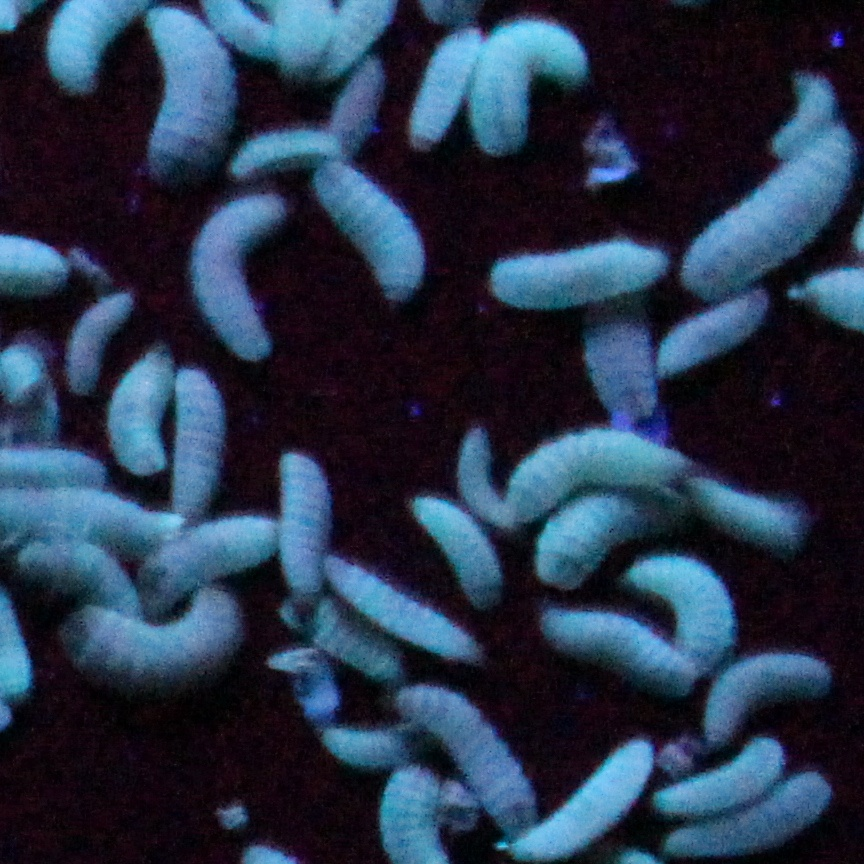larve: (292, 143, 429, 285), (397, 687, 533, 826), (494, 431, 672, 528), (477, 28, 621, 141), (187, 204, 292, 355), (144, 5, 233, 182), (72, 589, 246, 677), (331, 553, 468, 658), (153, 504, 280, 604), (675, 465, 824, 550), (514, 485, 641, 582), (492, 250, 670, 319), (538, 604, 709, 675), (655, 780, 833, 848), (651, 285, 772, 385), (414, 489, 509, 602), (702, 658, 829, 738), (412, 14, 485, 153), (163, 360, 226, 516), (658, 746, 785, 819), (111, 343, 170, 485), (277, 448, 333, 592), (648, 565, 733, 655), (312, 616, 416, 682), (66, 292, 138, 387), (590, 336, 660, 433), (214, 126, 365, 167), (458, 433, 514, 516), (292, 733, 416, 763)
